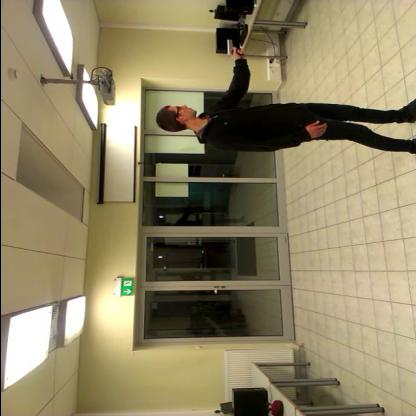Pistol: (221, 40, 245, 60)
